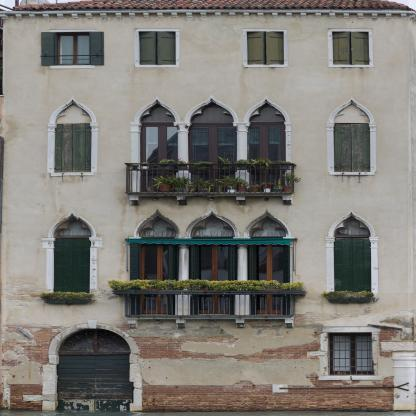Balcony: (124, 163, 297, 197), (112, 290, 308, 319)
Blind: (333, 238, 371, 294), (53, 239, 90, 295), (334, 123, 371, 172), (54, 124, 91, 172), (138, 31, 176, 65), (247, 31, 284, 65), (332, 31, 369, 65), (41, 32, 58, 66), (89, 32, 105, 66)
Building Outline: (0, 0, 416, 411)
Door: (56, 355, 134, 399), (188, 123, 237, 193), (192, 238, 233, 315), (138, 238, 178, 315), (249, 238, 286, 315), (247, 122, 286, 192), (139, 123, 178, 193)
Facade: (1, 10, 416, 411)
Floor: (0, 197, 416, 320), (0, 82, 416, 197), (0, 10, 416, 83)
Floor Slab: (0, 78, 416, 83), (0, 192, 416, 197), (0, 315, 416, 320)
Ground Floor: (0, 320, 416, 412)
Molding: (0, 12, 407, 19)
Roof: (12, 0, 415, 12)
Window: (333, 238, 371, 294), (53, 239, 90, 295), (327, 333, 375, 376), (56, 328, 131, 354), (334, 123, 371, 172), (54, 124, 91, 172), (138, 31, 176, 65), (332, 31, 369, 65), (247, 31, 284, 65), (53, 32, 91, 65), (190, 214, 236, 237), (189, 101, 235, 122), (138, 215, 177, 237), (54, 102, 92, 124), (53, 216, 91, 238), (248, 215, 286, 237), (333, 215, 370, 237), (334, 102, 371, 123), (248, 102, 285, 122), (138, 102, 175, 122)
